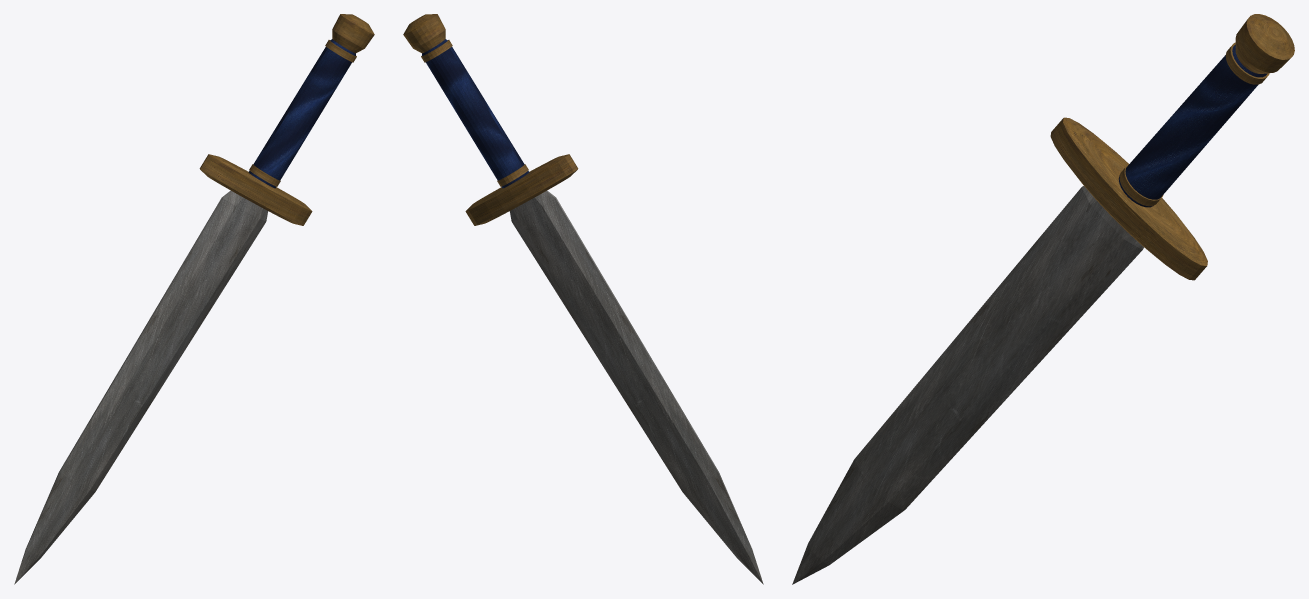
File: greatsword.obj
The picture shows the model from 3 angles, left to right: view 1: azimuth 30°, elevation 25°; view 2: azimuth 150°, elevation 25°; view 3: azimuth 330°, elevation 25°; orthographic projection. The views are drawn at different scales.
Visible parts, largest first — view 1: blade, grip, guard, pommel; view 2: blade, grip, guard, pommel; view 3: blade, guard, grip, pommel.
Boxes of the visible parts, left/top/right/bottom form: blade: left=14, top=190, right=268, bottom=584; grip: left=248, top=39, right=355, bottom=188; guard: left=199, top=154, right=312, bottom=225; pommel: left=332, top=14, right=374, bottom=53; blade: left=509, top=190, right=763, bottom=584; grip: left=422, top=39, right=529, bottom=188; guard: left=465, top=154, right=578, bottom=225; pommel: left=403, top=14, right=445, bottom=53; blade: left=792, top=186, right=1143, bottom=584; guard: left=1050, top=117, right=1207, bottom=280; grip: left=1118, top=44, right=1267, bottom=207; pommel: left=1235, top=14, right=1294, bottom=73.
Bounding box in the file's own units: 86.53 × 113 × 7.67.
Materials: 3 (3 with a texture image).
